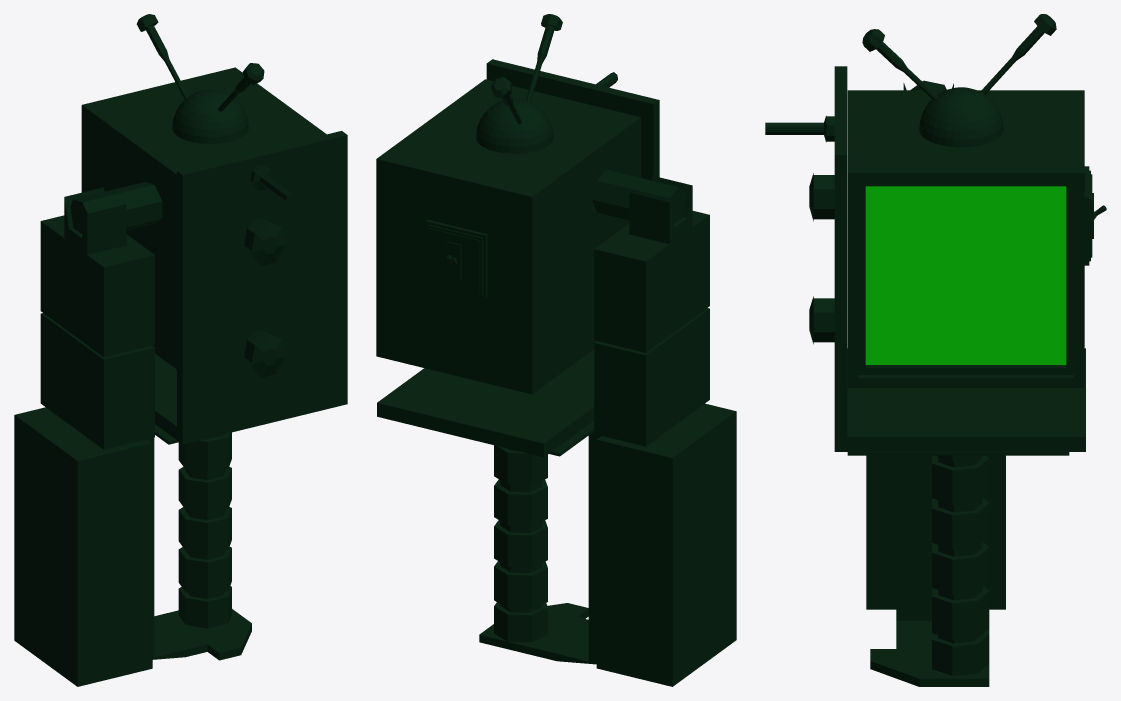
The model's file is Scanner.fbx.
The picture shows the model from 3 angles, left to right: view 1: azimuth 30°, elevation 25°; view 2: azimuth 150°, elevation 25°; view 3: azimuth 270°, elevation 25°; orthographic projection. The views are drawn at different scales.
Parts seen in each view (by area): view 1: Cube.007; view 2: Cube.007; view 3: Cube.007.
Boxes of the visible parts, x1,y1,x2,y2 form: Cube.007: (14, 14, 347, 686); Cube.007: (376, 14, 736, 686); Cube.007: (765, 14, 1106, 686).
Size of the model in its own units: 156 by 341 by 163.
